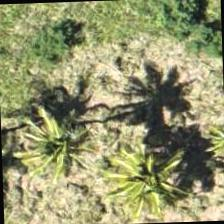Kelapa_Sawit: (2, 96, 96, 188), (136, 134, 223, 223), (175, 98, 223, 192)
